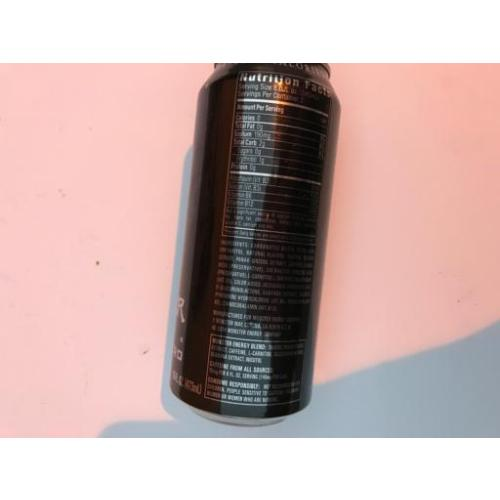metal: (170, 62, 343, 427)
